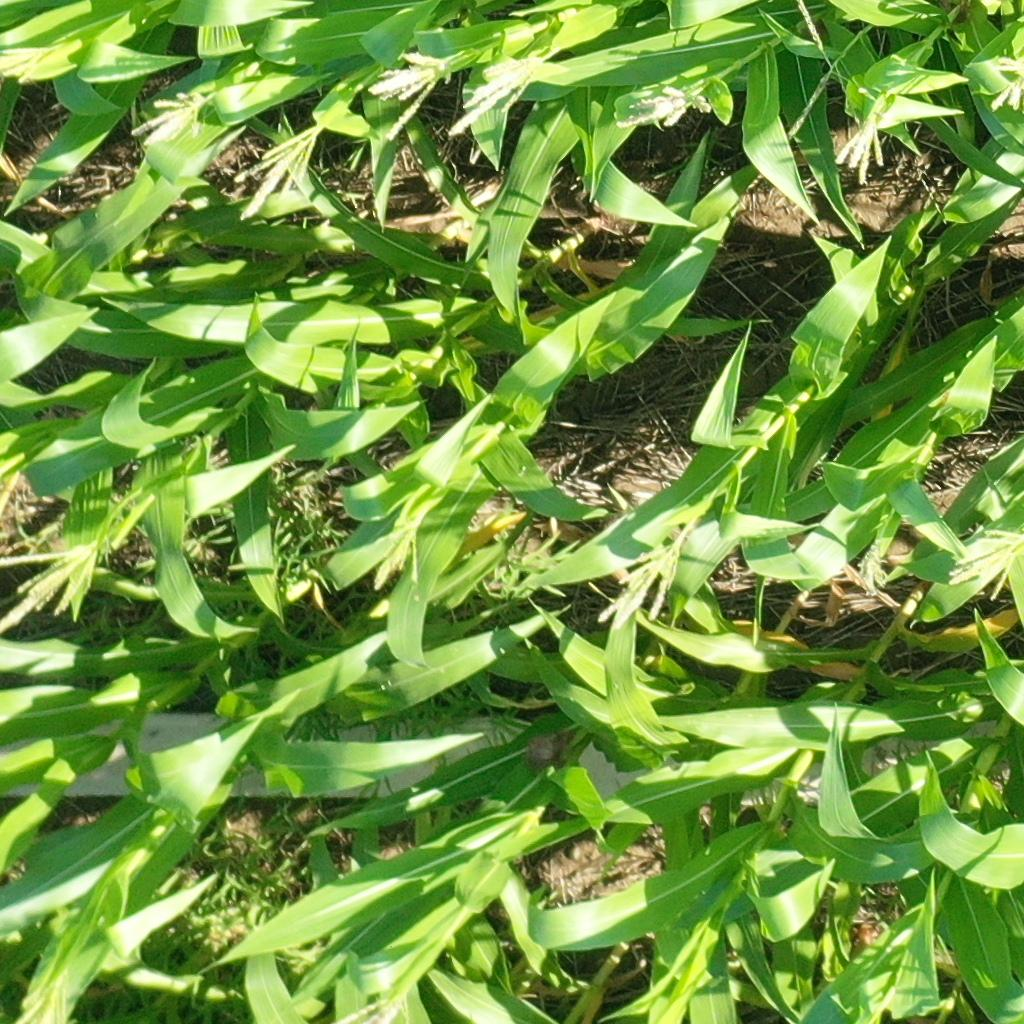Tassel: (226, 121, 326, 230), (1, 540, 102, 639), (596, 532, 688, 629), (445, 55, 543, 143), (366, 47, 451, 142), (945, 525, 1024, 601), (129, 83, 213, 150), (615, 81, 709, 137), (367, 521, 425, 593), (834, 116, 891, 186), (332, 987, 414, 1024), (15, 974, 69, 1024), (1, 44, 52, 88), (985, 54, 1024, 110), (857, 542, 891, 598)
